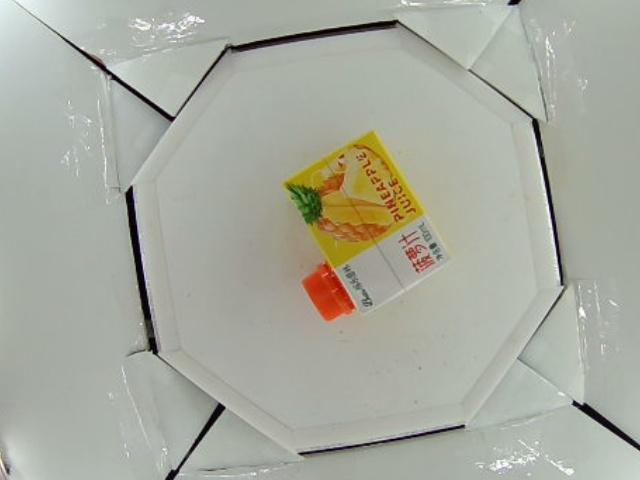Bottle: (281, 128, 453, 321)
